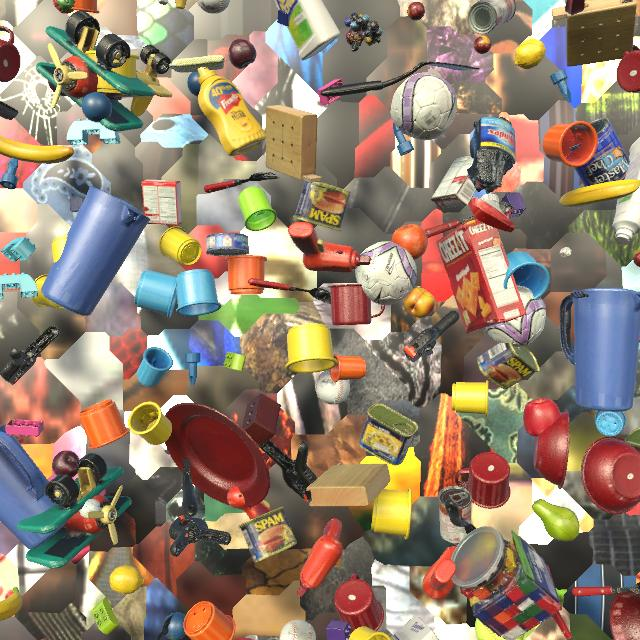ycb_002_master_chef_can: (570, 118, 630, 203)
ycb_003_cracker_box: (436, 218, 526, 334)
ycb_004_sugar_box: (390, 615, 439, 640)
ycb_005_tomato_soup_can: (438, 486, 472, 544), (468, 0, 516, 34)
ycb_006_mustard_bottle: (198, 67, 266, 156), (175, 0, 187, 9)
ycb_007_tuna_fish_can: (206, 233, 249, 257)
ycb_008_pudding_box: (431, 155, 476, 209)
ycb_009_gelatin_box: (142, 179, 182, 226), (13, 435, 24, 443)
ycb_010_potted_meat_can: (359, 403, 418, 465), (238, 506, 297, 563), (477, 342, 540, 389), (293, 181, 351, 231), (625, 428, 640, 453)
ycb_011_banana: (559, 179, 640, 208), (0, 136, 74, 164), (0, 587, 23, 621)
ycb_012_strawberry: (53, 0, 75, 14), (235, 638, 253, 640)
ycb_013_apple: (523, 398, 561, 437)
ycb_014_lemon: (109, 565, 145, 594), (515, 39, 546, 69)
ycb_015_peach: (404, 288, 435, 318)
ycb_016_pear: (532, 499, 580, 541)
ycb_017_orange: (392, 224, 428, 260)
ycb_018_plum: (229, 39, 256, 69), (52, 450, 80, 478), (48, 81, 67, 96)
